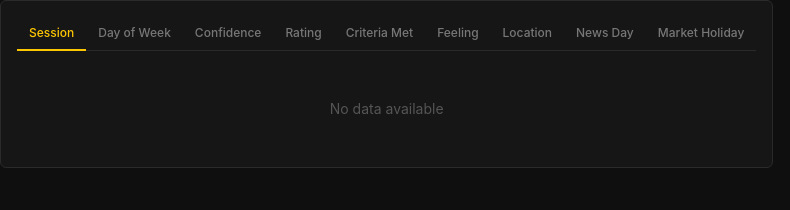
UnifiedBreakdowns — News Day / Market Holiday tabs › shows the small-sample framing on the News Day tab in live mode
Click the button "News Day": (605, 34) [564,17,646,51]
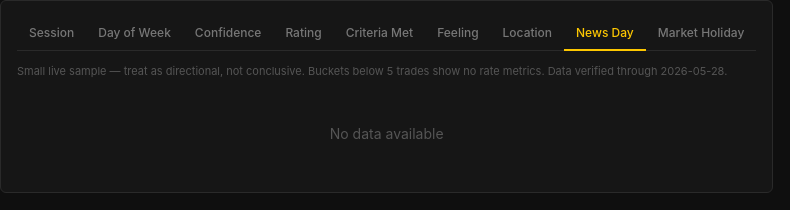
Result: the text "Small live sample" is shown at [17,64,727,78]
